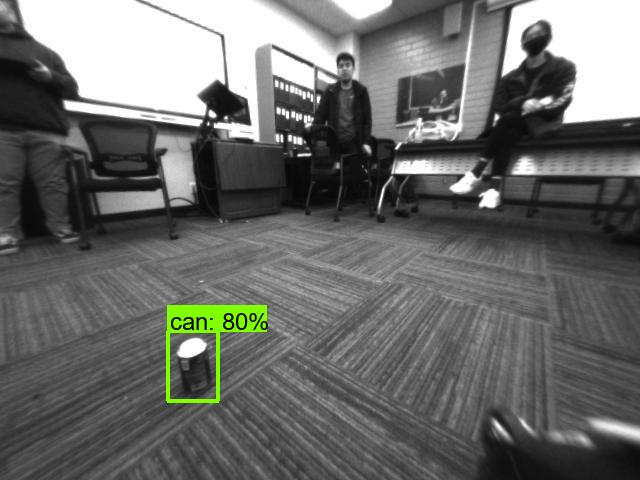can: (167, 332, 223, 398)
